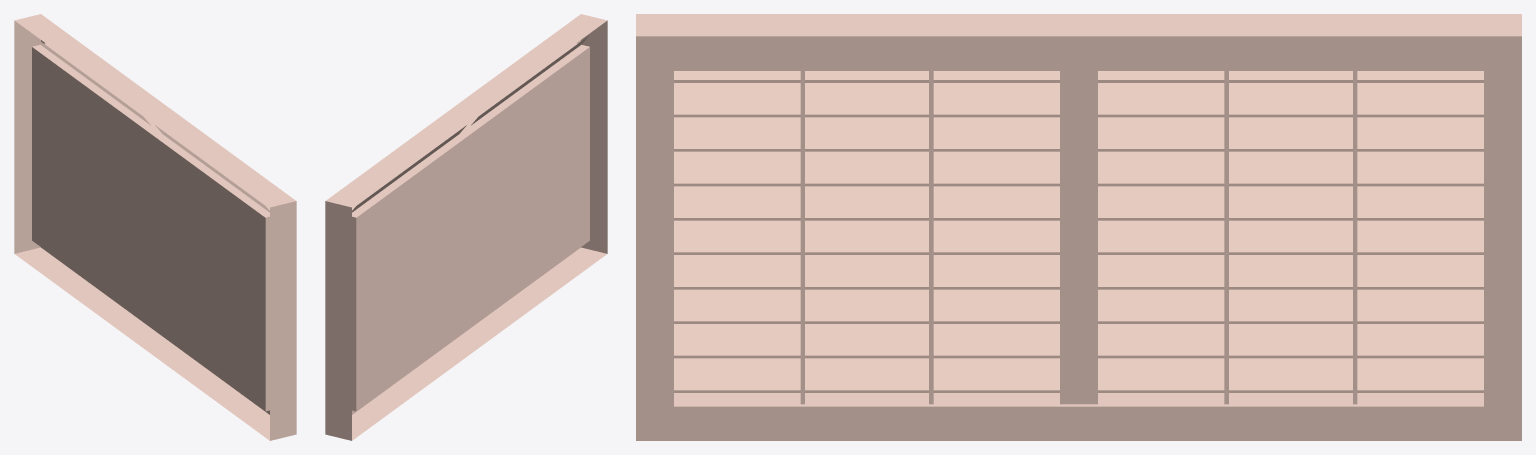
The model's file is vent1.fbx.
3 renders of one model, left to right at view 1: azimuth 30°, elevation 25°; view 2: azimuth 150°, elevation 25°; view 3: azimuth 270°, elevation 25°, orthographic. The views are drawn at different scales.
Parts seen in each view (by area): view 1: vent01; view 2: vent01; view 3: vent01.
Part boxes in pixels (left/top/right/bottom): vent01: left=14, top=14, right=296, bottom=440; vent01: left=325, top=14, right=607, bottom=440; vent01: left=636, top=14, right=1521, bottom=440.
Size of the model in its own units: 9.57 by 80.58 by 160.
